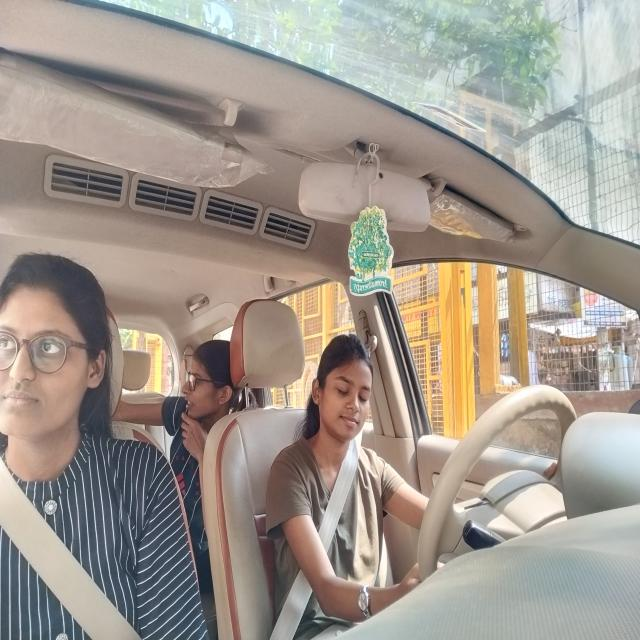drowsy: (304, 334, 382, 441)
person: (0, 259, 110, 438), (179, 348, 224, 420)
